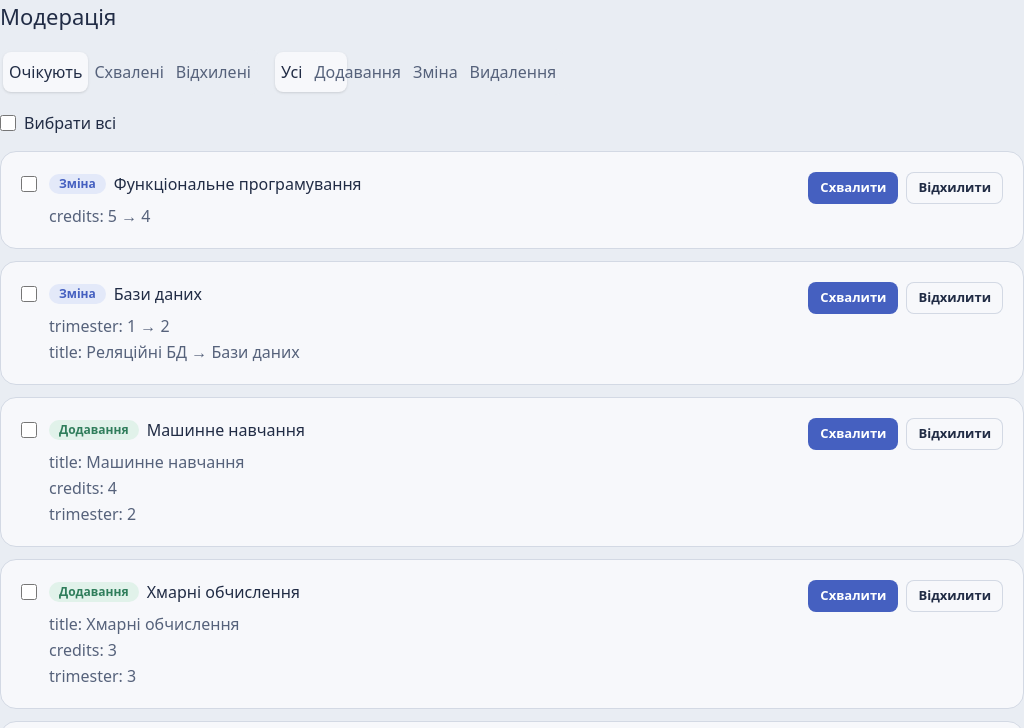
ModerationPage › масове схвалення з пропущеними показує підсумок і причину
Expected: the element named "Запис 501" is shown, [0,151,1023,249]
Step 1. Click the checkbox named "Вибрати запис 501" → (29, 184), box [21,176,37,192]
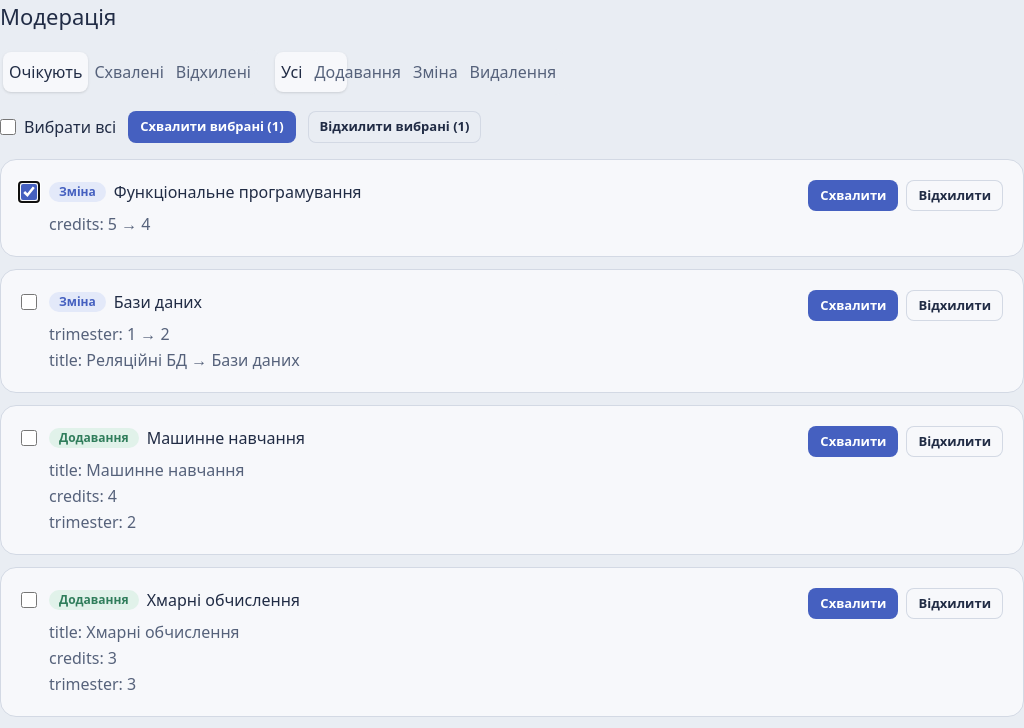
Step 2. Click the checkbox named "Вибрати запис 503" → (29, 438), box [21,430,37,446]
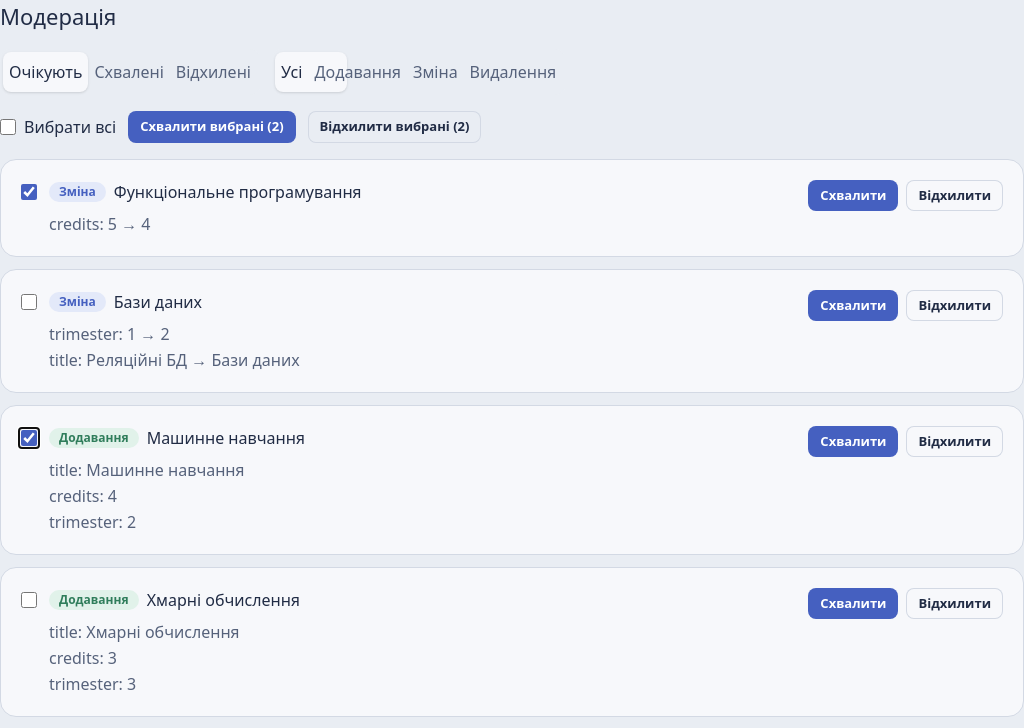
Step 3. Click the button "Схвалити вибрані (2)" → (212, 127), box [128,111,296,142]
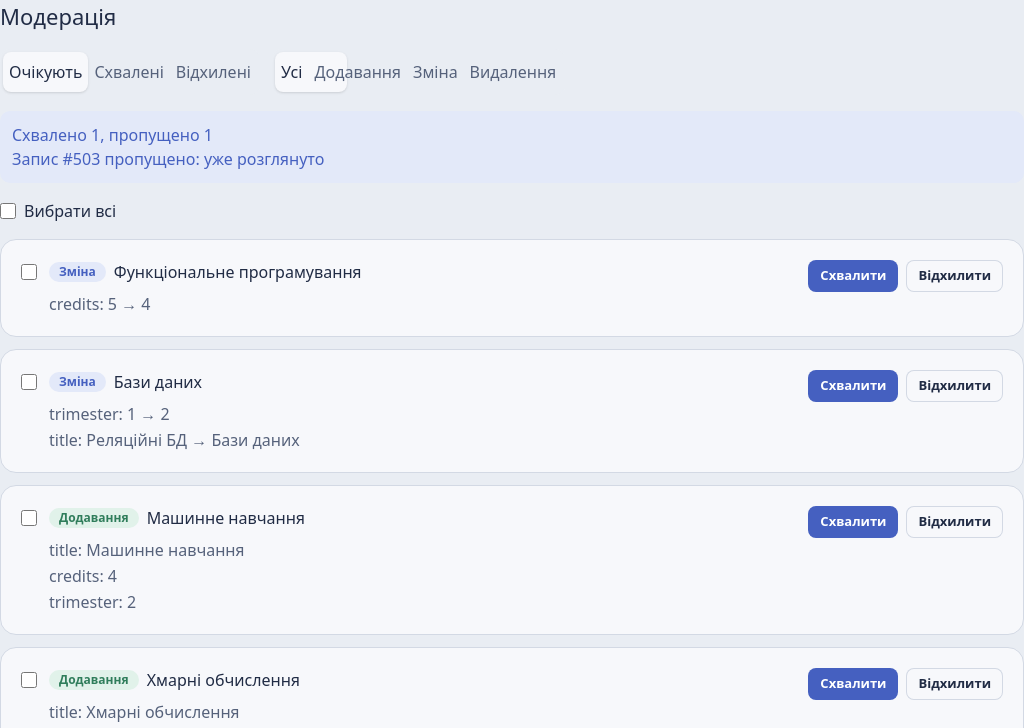
Result: the message shows "Схвалено 1, пропущено 1" at [12,124,213,146]
Result: the message shows "Запис #503 пропущено: уже розглянуто" at [12,148,324,170]
Result: the button "Схвалити вибрані" is gone
